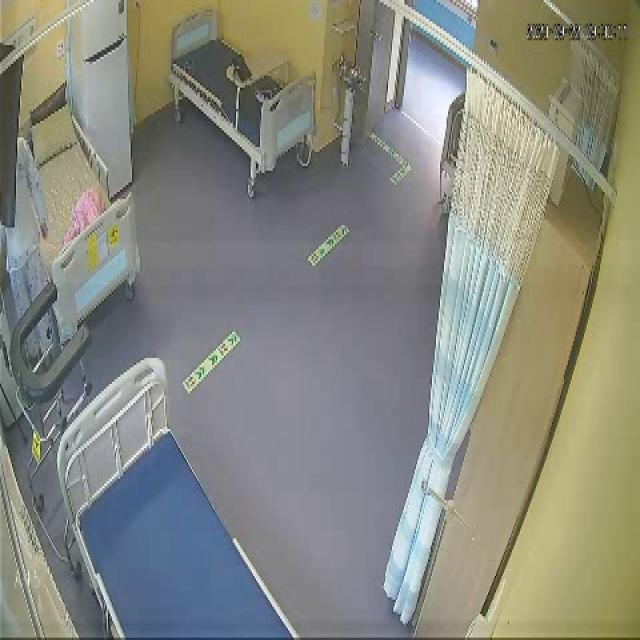bed: (54, 355, 294, 640), (14, 101, 140, 326), (171, 8, 317, 171)
patient: (0, 135, 62, 356)
